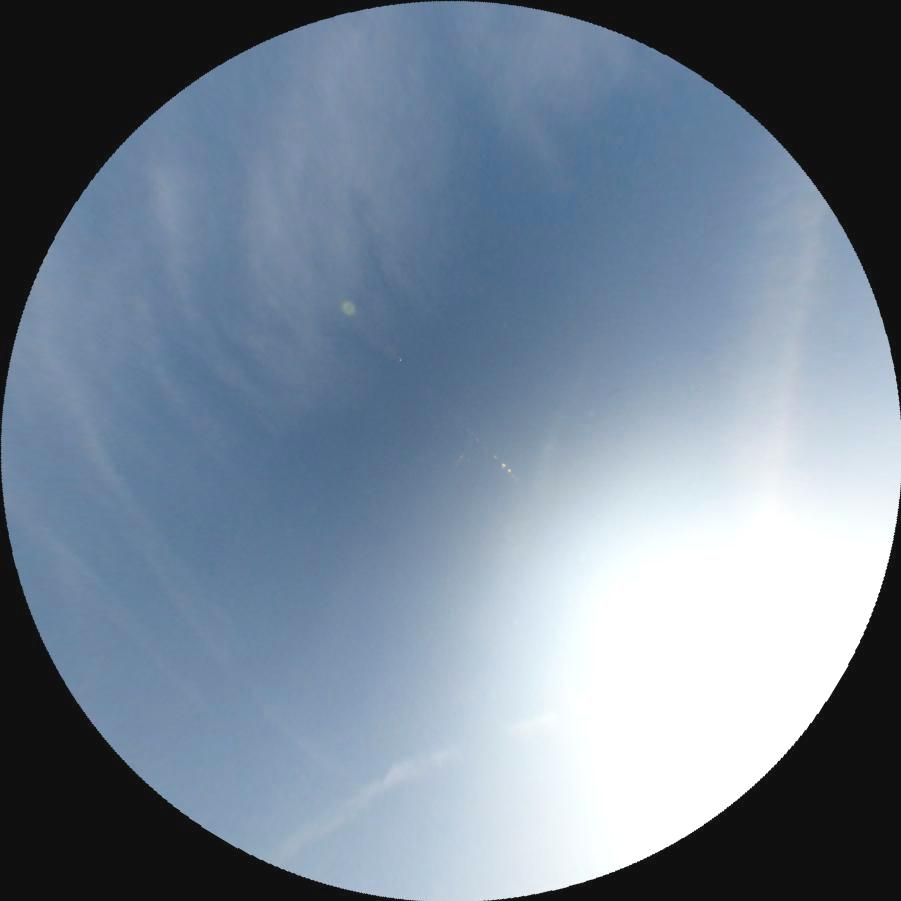contrail old: (251, 682, 579, 863)
contrail veryold: (37, 391, 371, 807), (691, 141, 834, 556)
sun: (544, 484, 883, 841)
